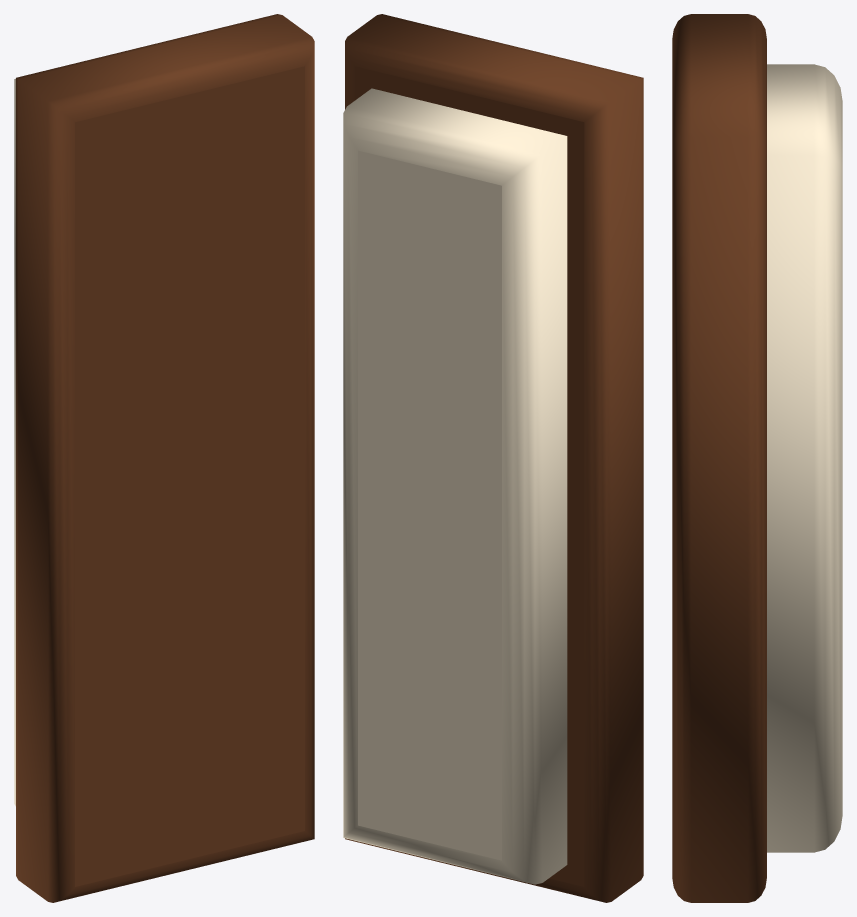
File: Digit_1.fbx
3 renders of one model, left to right at view 1: azimuth 30°, elevation 25°; view 2: azimuth 150°, elevation 25°; view 3: azimuth 270°, elevation 25°, orthographic. The views are drawn at different scales.
Visible parts, largest first — view 1: Digit_1; view 2: Digit_1; view 3: Digit_1.
Boxes of the visible parts, x1,y1,x2,y2 form: Digit_1: [14, 14, 314, 902]; Digit_1: [343, 14, 643, 902]; Digit_1: [672, 14, 842, 902].
Size of the model in its own units: 0.308 by 0.892 by 0.18.
1 material, 1 textured.
